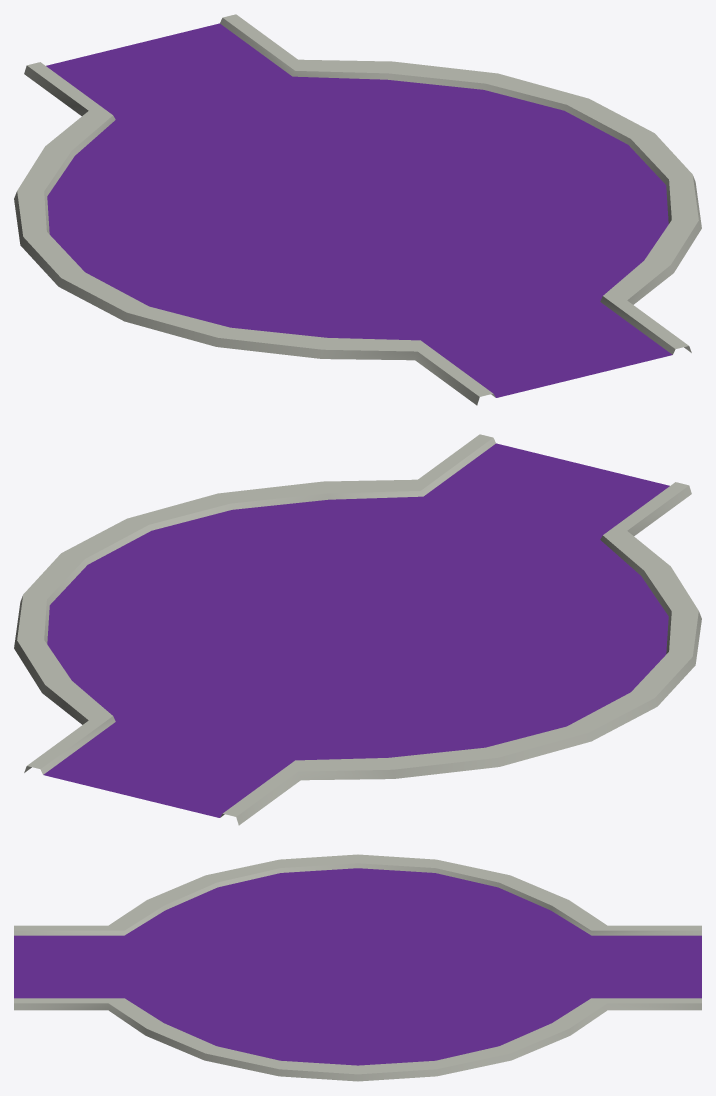
Rendered from ParkRoad_7_A.fbx.
The picture shows the model from 3 angles, top to bottom: view 1: azimuth 30°, elevation 25°; view 2: azimuth 150°, elevation 25°; view 3: azimuth 270°, elevation 25°; orthographic projection. The views are drawn at different scales.
Visible parts, largest first — view 1: ParkRoad_7_A; view 2: ParkRoad_7_A; view 3: ParkRoad_7_A.
Part boxes in pixels (x1=…): ParkRoad_7_A: x1=14, y1=14, x2=701, y2=405; ParkRoad_7_A: x1=14, y1=434, x2=701, y2=825; ParkRoad_7_A: x1=14, y1=854, x2=701, y2=1081.
Size of the model in its own units: 558 by 7.16 by 731.
